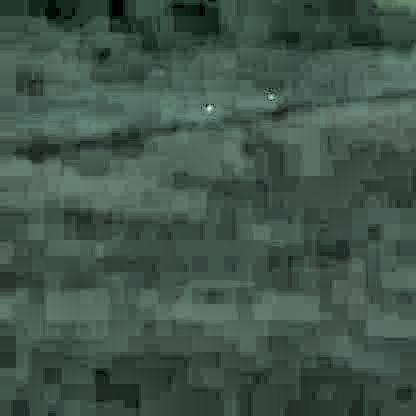golfball: (203, 102, 210, 109)
